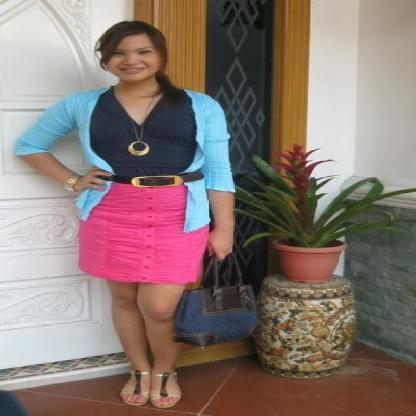bag: (170, 282, 256, 346)
jacket: (15, 87, 234, 232)
shirt: (90, 91, 198, 177)
shoe: (115, 370, 140, 390)
skirt: (77, 182, 208, 283)
